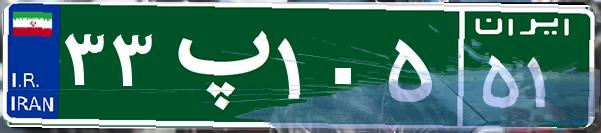0: (330, 28, 385, 110)
1: (273, 28, 330, 110), (525, 38, 570, 115)
3: (57, 26, 110, 107), (110, 28, 158, 105)
5: (385, 28, 445, 110), (475, 38, 525, 113)
پ: (158, 15, 273, 115)
